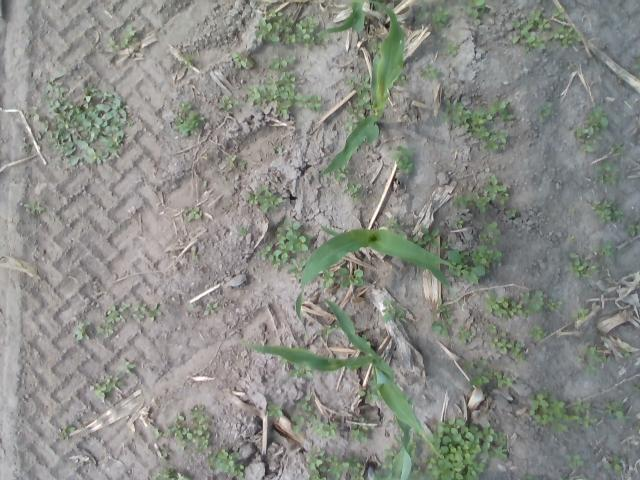Maize: (224, 296, 453, 468), (295, 225, 460, 338), (317, 0, 404, 175), (373, 415, 412, 480), (316, 0, 366, 35)
Weeds: (34, 70, 126, 166), (431, 417, 497, 480), (258, 219, 308, 270), (530, 392, 578, 424), (262, 84, 322, 108), (448, 248, 487, 284), (172, 110, 205, 138), (257, 183, 282, 212), (95, 374, 125, 398), (548, 26, 582, 46), (310, 416, 340, 438), (582, 106, 610, 127), (327, 456, 350, 480), (520, 288, 544, 311), (494, 299, 523, 318), (485, 289, 506, 314), (591, 200, 611, 225), (432, 4, 451, 30), (484, 179, 507, 200), (472, 245, 496, 265), (524, 31, 546, 52), (297, 18, 319, 39), (512, 21, 532, 43), (189, 405, 211, 425), (340, 268, 364, 286), (602, 400, 623, 420), (570, 253, 586, 277), (306, 445, 325, 465), (585, 344, 606, 362), (350, 454, 365, 479), (256, 18, 272, 41), (270, 56, 296, 70), (466, 0, 486, 18), (602, 454, 622, 472), (454, 103, 471, 124), (232, 53, 255, 68), (421, 228, 440, 246), (469, 107, 487, 126), (420, 63, 440, 80), (278, 16, 298, 33), (288, 257, 308, 274), (247, 82, 264, 102), (578, 411, 598, 428), (290, 364, 313, 378), (74, 320, 90, 340), (117, 358, 137, 374), (218, 94, 238, 109), (527, 325, 547, 340), (392, 146, 413, 160), (453, 192, 471, 208), (152, 468, 176, 480), (431, 320, 449, 336), (488, 101, 510, 114), (146, 301, 161, 320), (359, 389, 378, 404), (538, 102, 552, 122), (382, 299, 393, 323), (280, 72, 296, 88), (354, 77, 370, 93), (574, 396, 590, 412), (267, 8, 284, 23), (183, 206, 200, 221), (58, 426, 76, 440), (572, 306, 590, 320), (348, 108, 367, 121), (587, 126, 603, 141), (473, 125, 489, 140), (268, 22, 280, 42), (193, 436, 208, 452), (290, 415, 302, 435), (296, 396, 312, 411), (456, 326, 471, 342), (275, 102, 292, 116), (194, 424, 211, 438), (230, 460, 243, 478), (628, 218, 640, 237), (25, 202, 44, 214), (358, 92, 370, 111), (510, 340, 522, 359), (476, 198, 490, 214), (106, 306, 120, 322), (158, 442, 172, 458), (392, 309, 408, 323), (566, 454, 583, 467), (408, 235, 426, 247), (268, 403, 282, 418), (351, 430, 366, 444), (323, 269, 334, 288), (449, 261, 462, 277), (492, 129, 509, 141), (344, 182, 362, 193), (498, 339, 512, 353), (484, 137, 499, 150), (604, 239, 614, 258), (181, 53, 194, 67), (499, 108, 514, 120), (537, 17, 552, 29), (204, 303, 219, 315), (359, 418, 374, 430), (547, 298, 562, 310), (571, 126, 587, 137), (398, 162, 415, 172), (392, 222, 406, 234), (346, 118, 358, 132), (382, 215, 397, 226), (125, 23, 136, 38), (497, 377, 512, 388), (470, 376, 490, 384), (552, 7, 565, 19), (528, 10, 541, 22), (416, 11, 429, 23), (422, 456, 435, 468), (448, 41, 459, 55), (265, 74, 279, 85), (612, 142, 624, 154), (606, 172, 618, 184), (170, 424, 182, 436), (620, 346, 632, 358), (245, 193, 258, 204), (461, 250, 471, 264), (104, 324, 114, 338), (496, 431, 506, 445), (552, 424, 566, 434), (408, 439, 416, 456), (119, 38, 131, 49), (496, 446, 507, 458), (613, 210, 624, 222), (486, 222, 499, 232), (588, 260, 598, 273), (22, 135, 30, 151), (310, 464, 326, 472), (580, 144, 594, 153), (181, 428, 192, 439), (453, 216, 463, 228), (284, 34, 296, 44), (334, 169, 346, 179), (224, 155, 236, 165), (218, 448, 228, 460), (218, 460, 228, 472), (488, 336, 498, 348), (325, 326, 342, 333), (308, 474, 327, 480), (118, 303, 132, 311), (610, 196, 618, 210), (238, 225, 248, 236), (372, 41, 382, 52), (594, 164, 612, 170), (174, 414, 186, 423), (476, 367, 488, 376), (446, 306, 452, 324), (506, 209, 516, 219), (446, 100, 456, 110), (443, 112, 453, 122), (106, 38, 116, 48), (490, 323, 500, 333), (500, 193, 509, 204), (345, 76, 356, 85), (152, 427, 161, 438), (105, 46, 119, 53), (178, 473, 192, 480), (318, 36, 330, 44), (132, 314, 144, 322), (134, 302, 146, 310), (180, 102, 192, 110), (208, 458, 216, 470), (386, 446, 398, 454), (490, 235, 500, 244), (612, 166, 622, 175), (175, 434, 185, 443), (473, 359, 488, 365), (462, 361, 472, 370), (228, 452, 240, 459), (633, 382, 640, 394), (492, 251, 502, 259), (397, 74, 405, 84), (304, 38, 314, 46), (238, 160, 246, 170), (413, 467, 421, 477), (436, 305, 446, 313), (472, 193, 480, 202), (96, 325, 104, 334), (207, 450, 216, 458), (522, 476, 540, 480), (393, 434, 402, 442), (567, 234, 575, 243), (478, 234, 488, 241), (352, 192, 359, 202), (164, 429, 172, 437), (487, 175, 496, 182), (588, 364, 595, 373), (420, 0, 430, 6), (520, 352, 526, 362), (342, 166, 349, 174), (202, 181, 210, 188), (276, 146, 284, 153), (620, 415, 628, 422), (523, 310, 532, 316), (382, 464, 392, 469), (632, 64, 639, 71), (486, 114, 494, 120), (190, 302, 198, 308), (214, 454, 220, 462), (522, 466, 528, 474), (23, 114, 32, 119), (192, 253, 198, 260), (436, 298, 443, 304), (280, 358, 287, 364), (594, 246, 601, 252), (443, 243, 451, 248), (494, 372, 502, 377), (510, 376, 518, 381), (600, 175, 604, 184), (222, 175, 228, 181), (578, 356, 584, 362), (392, 302, 398, 308), (306, 422, 312, 428), (476, 18, 481, 25), (73, 463, 80, 468), (570, 204, 574, 212), (202, 155, 208, 160), (484, 221, 488, 228), (178, 446, 185, 450), (491, 370, 494, 377), (316, 331, 321, 334), (618, 77, 620, 83)
